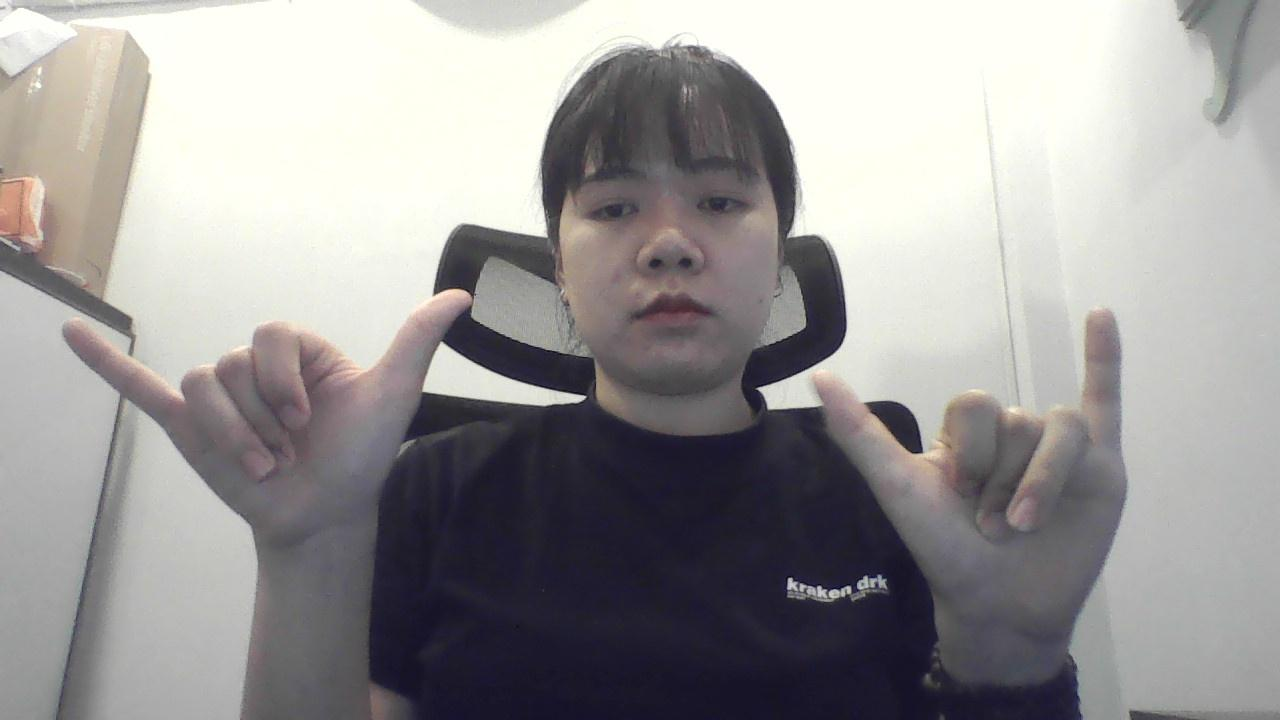Y: (21, 274, 516, 559), (777, 299, 1158, 649)
